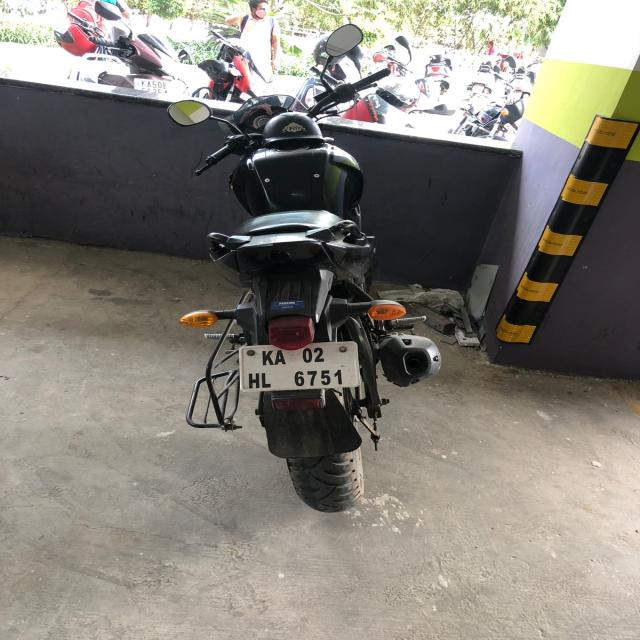number plate: (237, 341, 361, 392)
